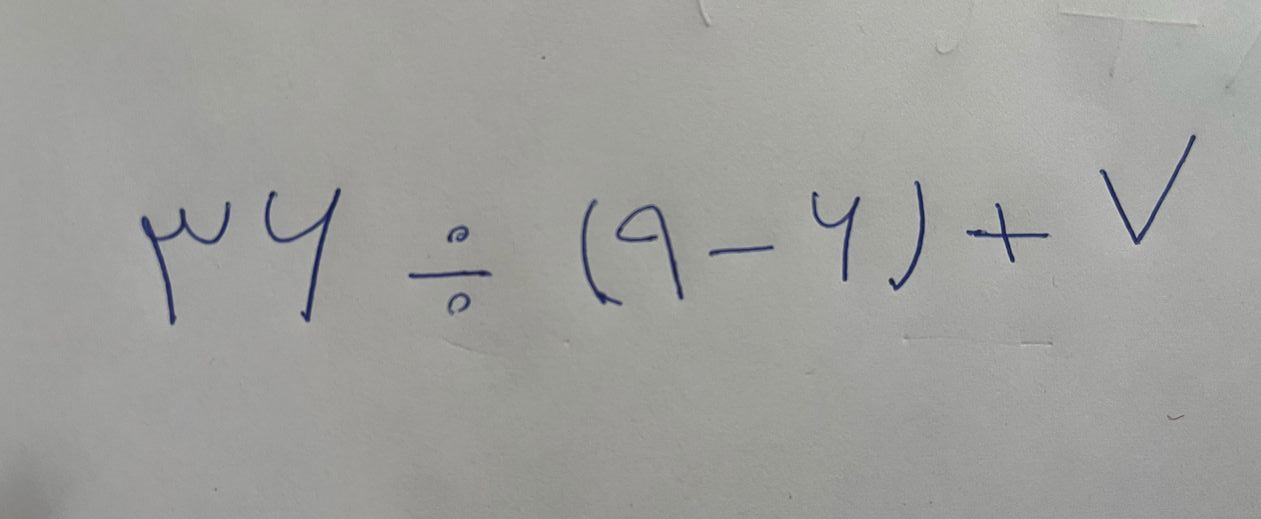character: (266, 186, 338, 322), (141, 207, 217, 326), (1098, 134, 1186, 236), (405, 221, 493, 314), (617, 194, 683, 296), (967, 197, 1046, 269), (811, 192, 859, 283), (894, 175, 927, 292), (580, 185, 611, 308), (711, 242, 775, 266)
